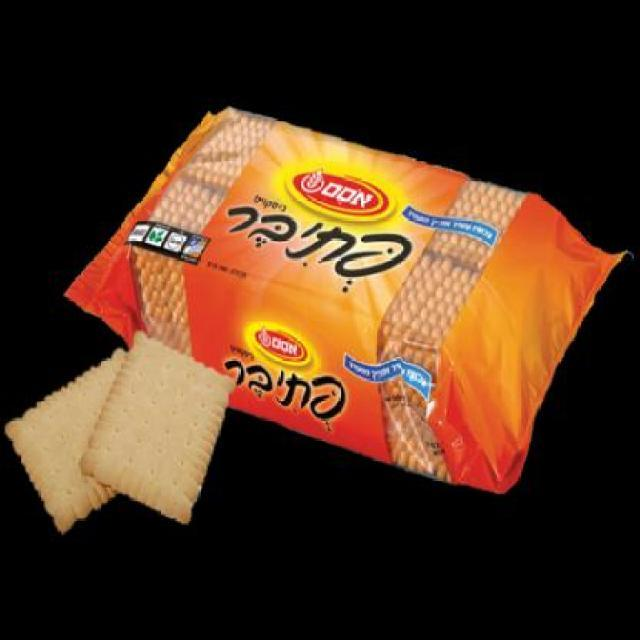Cookie: (70, 103, 593, 394), (88, 334, 224, 518)
